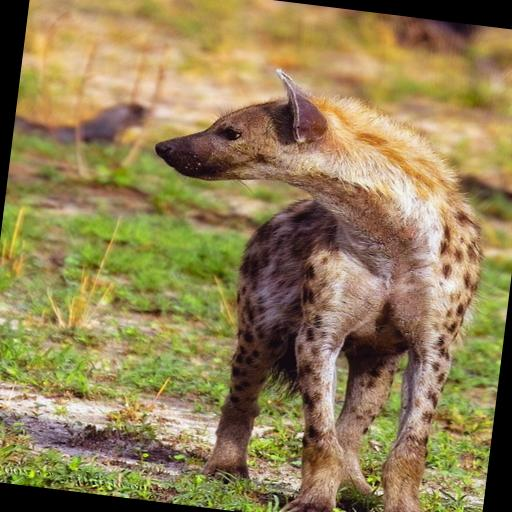hyenas: (113, 59, 443, 512)
